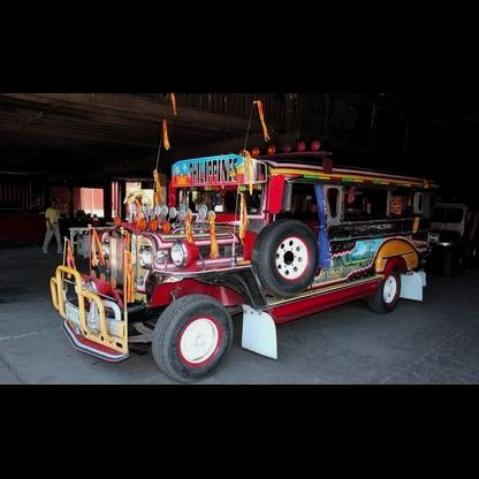jeepney: (46, 140, 440, 378)
